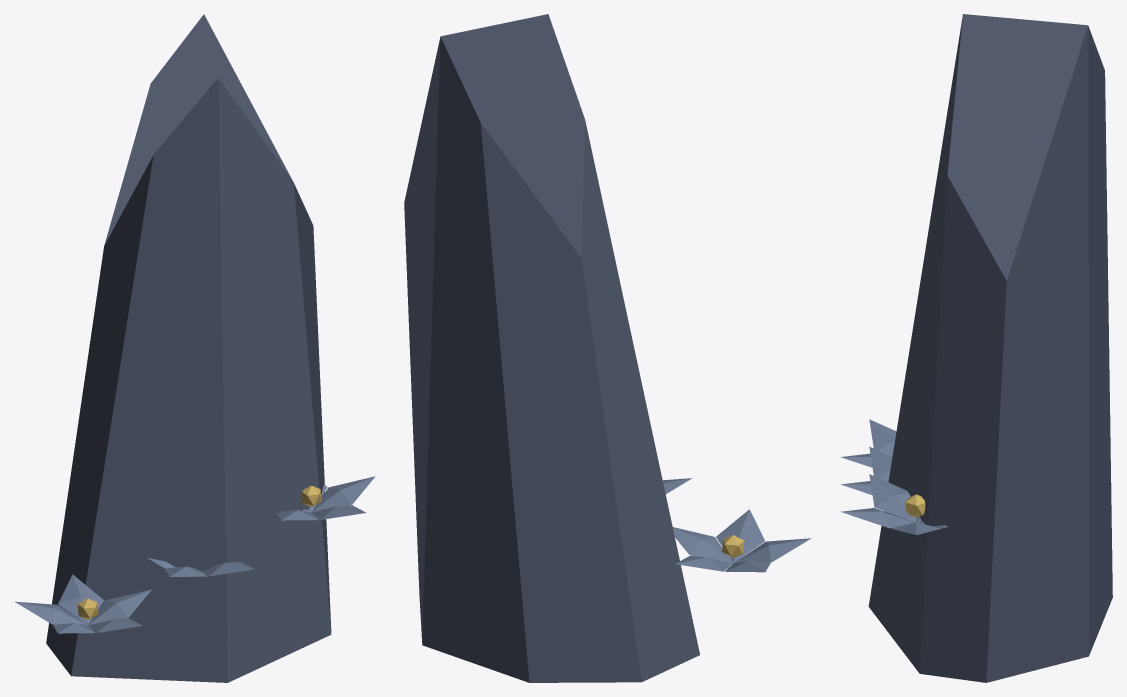
The model's file is map-boundaries-v5__grave_12.glb.
3 views of the same model, side by side, from view 1: azimuth 30°, elevation 25°; view 2: azimuth 150°, elevation 25°; view 3: azimuth 270°, elevation 25° (orthographic). The views are drawn at different scales.
Parts seen in each view (by area): view 1: grave_12; view 2: grave_12; view 3: grave_12.
Part boxes in pixels (x1,y1,x2,y2): grave_12: (15,14,375,682); grave_12: (404,14,810,682); grave_12: (840,14,1112,682).
Bounding box in the file's own units: 1.22 × 1.97 × 0.782.
